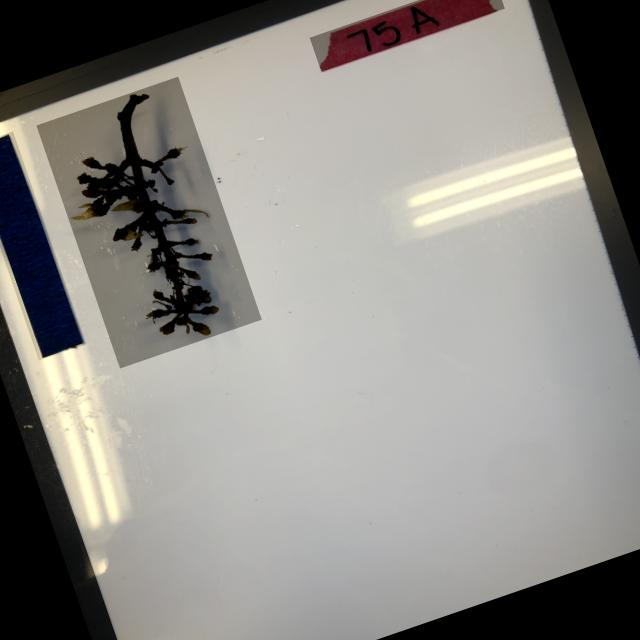index: (309, 0, 504, 71)
measure_label: (0, 130, 86, 359)
rachis_cluster: (36, 76, 261, 368)
